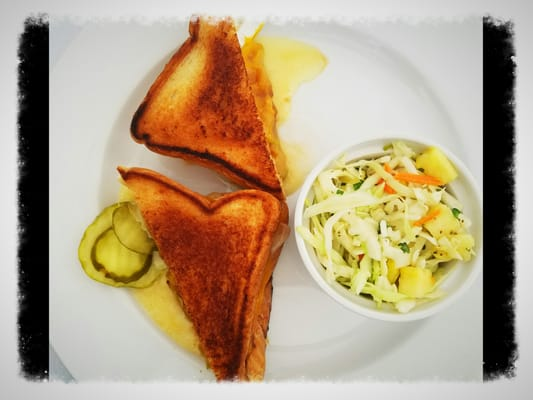soup: (97, 16, 320, 383)
sushi: (292, 136, 481, 323)
